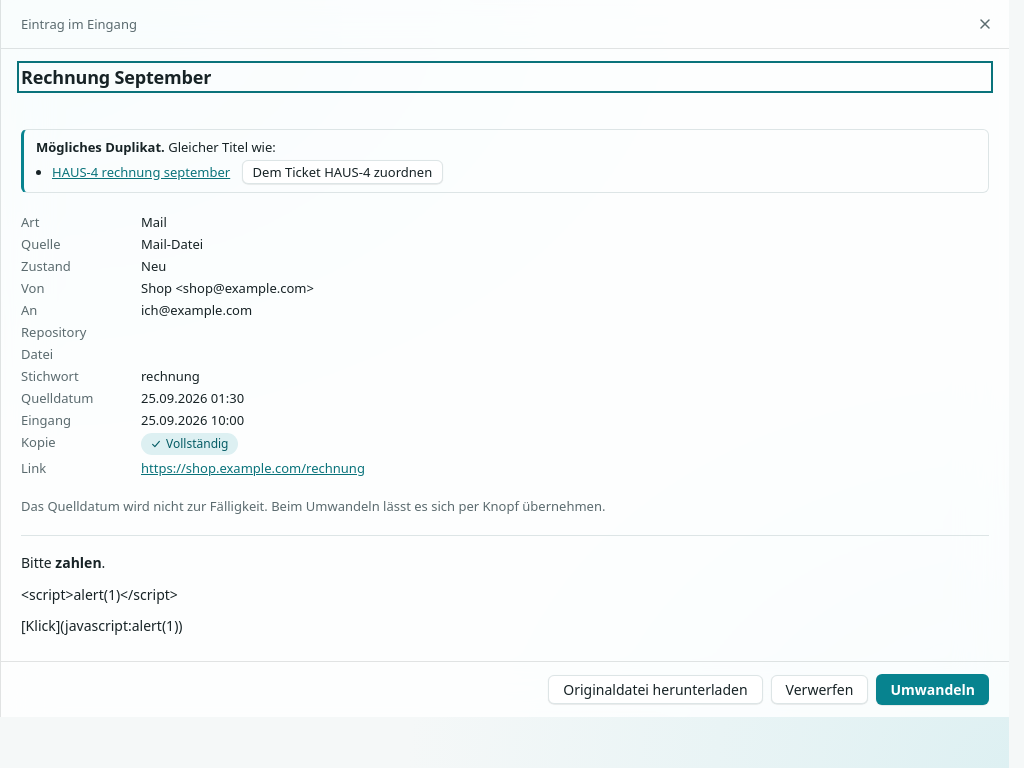
Test: inbox panel › hints at a possible duplicate and assigns the entry to the ticket
Check: the text "Mögliches Duplikat." is shown, box [36,138,165,156]
Click the button "Dem Ticket HAUS-4 zuordnen" at {"x": 342, "y": 172}, box [242,160,443,184]
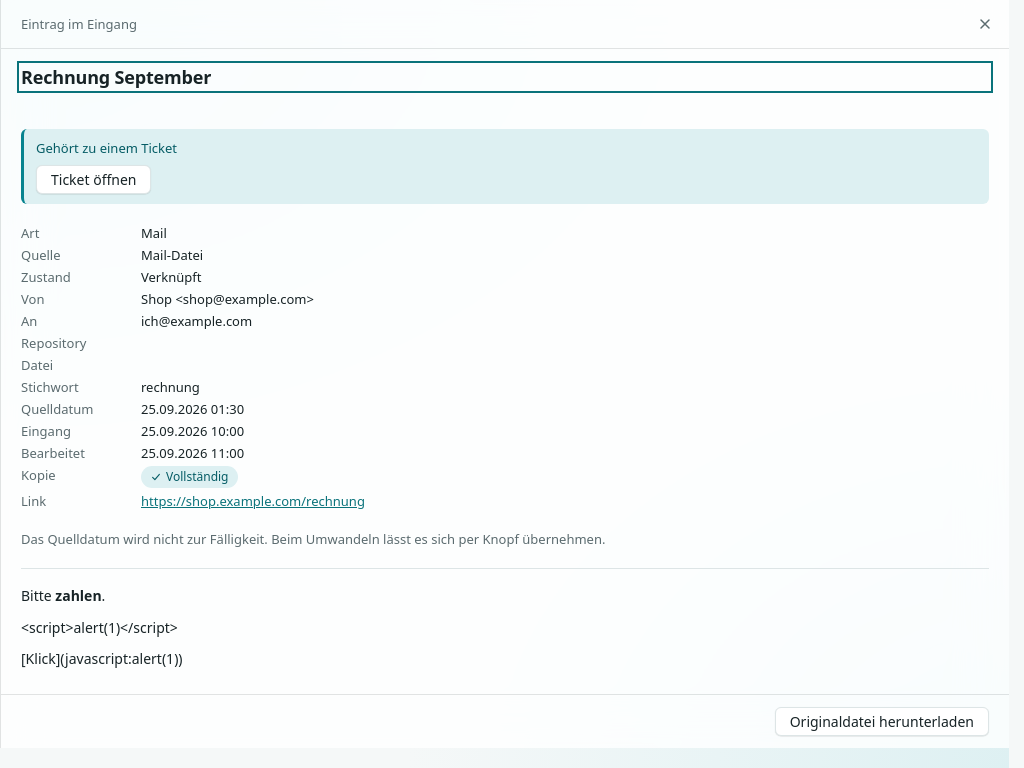
Check: the link "Ticket öffnen" is shown, box [36,165,152,194]
